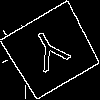Y: (26, 25, 77, 82)
